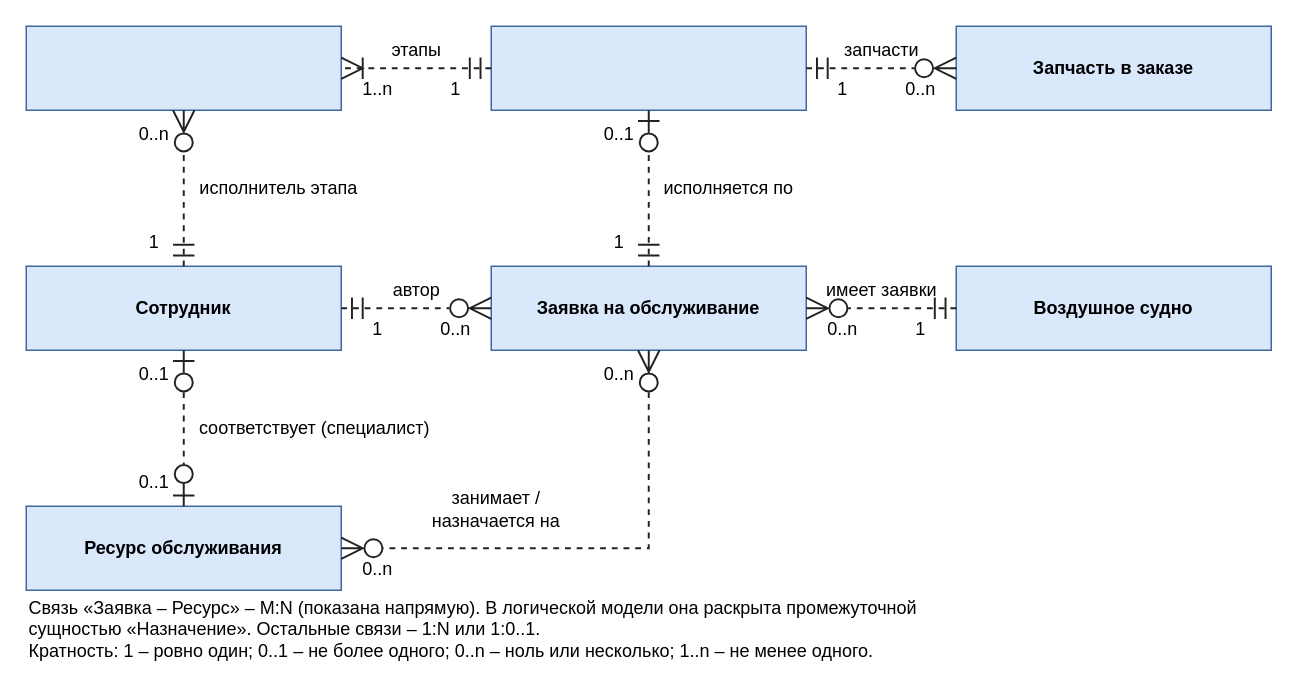
Image size: 1298x689. Some labels were removed from this diagram. Here are the shapes that lost their labels. From the top down, the box of each, then its label:
(25, 25, 341, 110): Этап работ
(490, 25, 806, 110): Заказ-наряд
